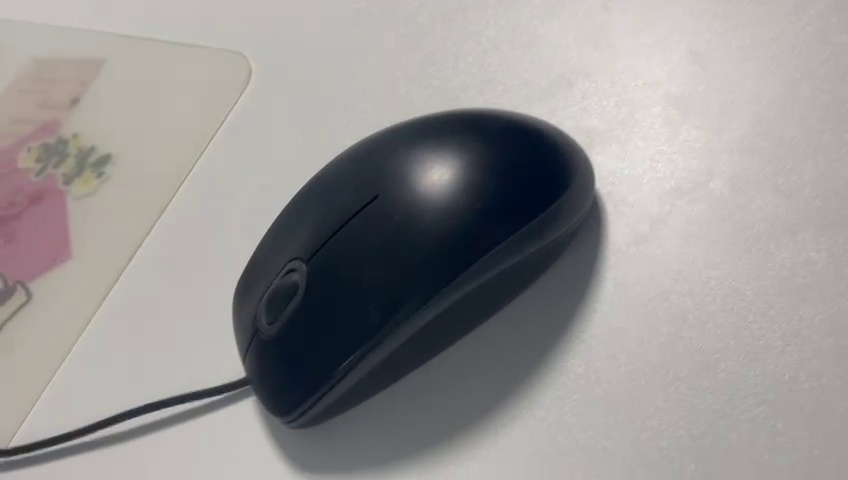objeto: (176, 89, 628, 441)
